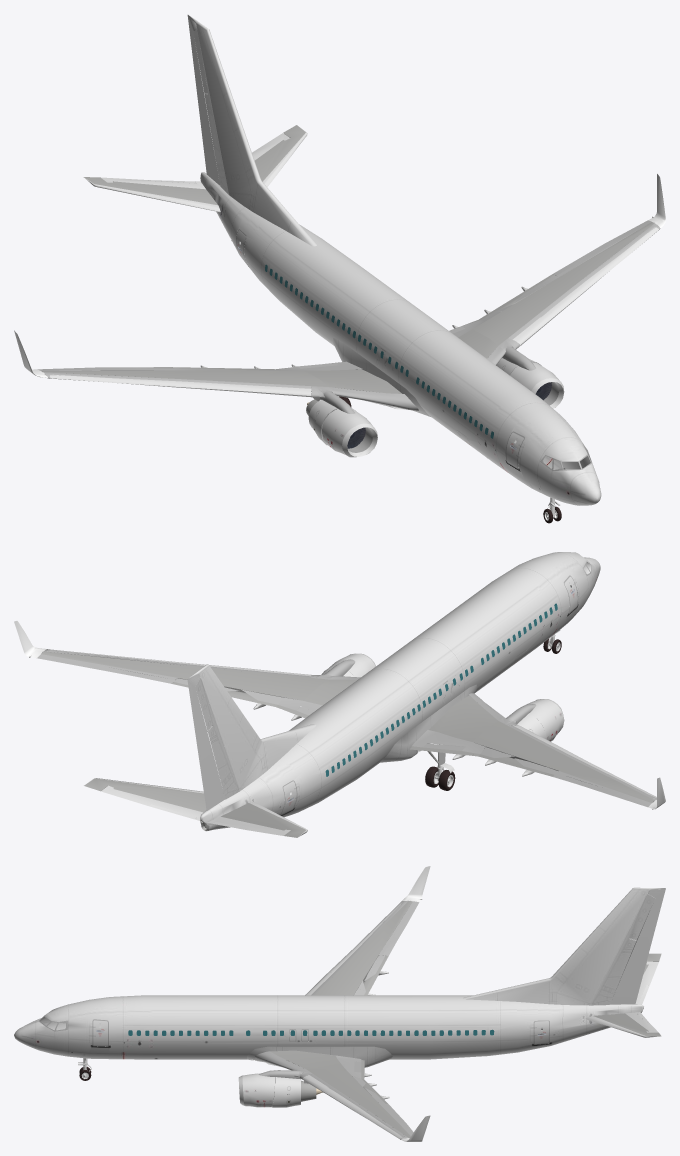
The model's file is civil_737_800.glb.
3 renders of one model, top to bottom at view 1: azimuth 30°, elevation 25°; view 2: azimuth 150°, elevation 25°; view 3: azimuth 270°, elevation 25°, orthographic. The views are drawn at different scales.
Parts seen in each view (by area): view 1: lreverserib_0; view 2: lreverserib_0; view 3: lreverserib_0.
Part boxes in pixels (box(x1,y1,x2,y2)): lreverserib_0: box(14, 15, 665, 523); lreverserib_0: box(14, 552, 665, 837); lreverserib_0: box(14, 866, 665, 1141).
Bounding box in the file's own units: 35.78 × 12.95 × 39.5.
15 materials, 2 textured.
